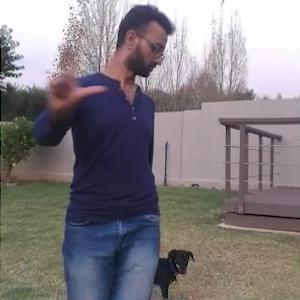land_hand: (37, 33, 108, 106)
